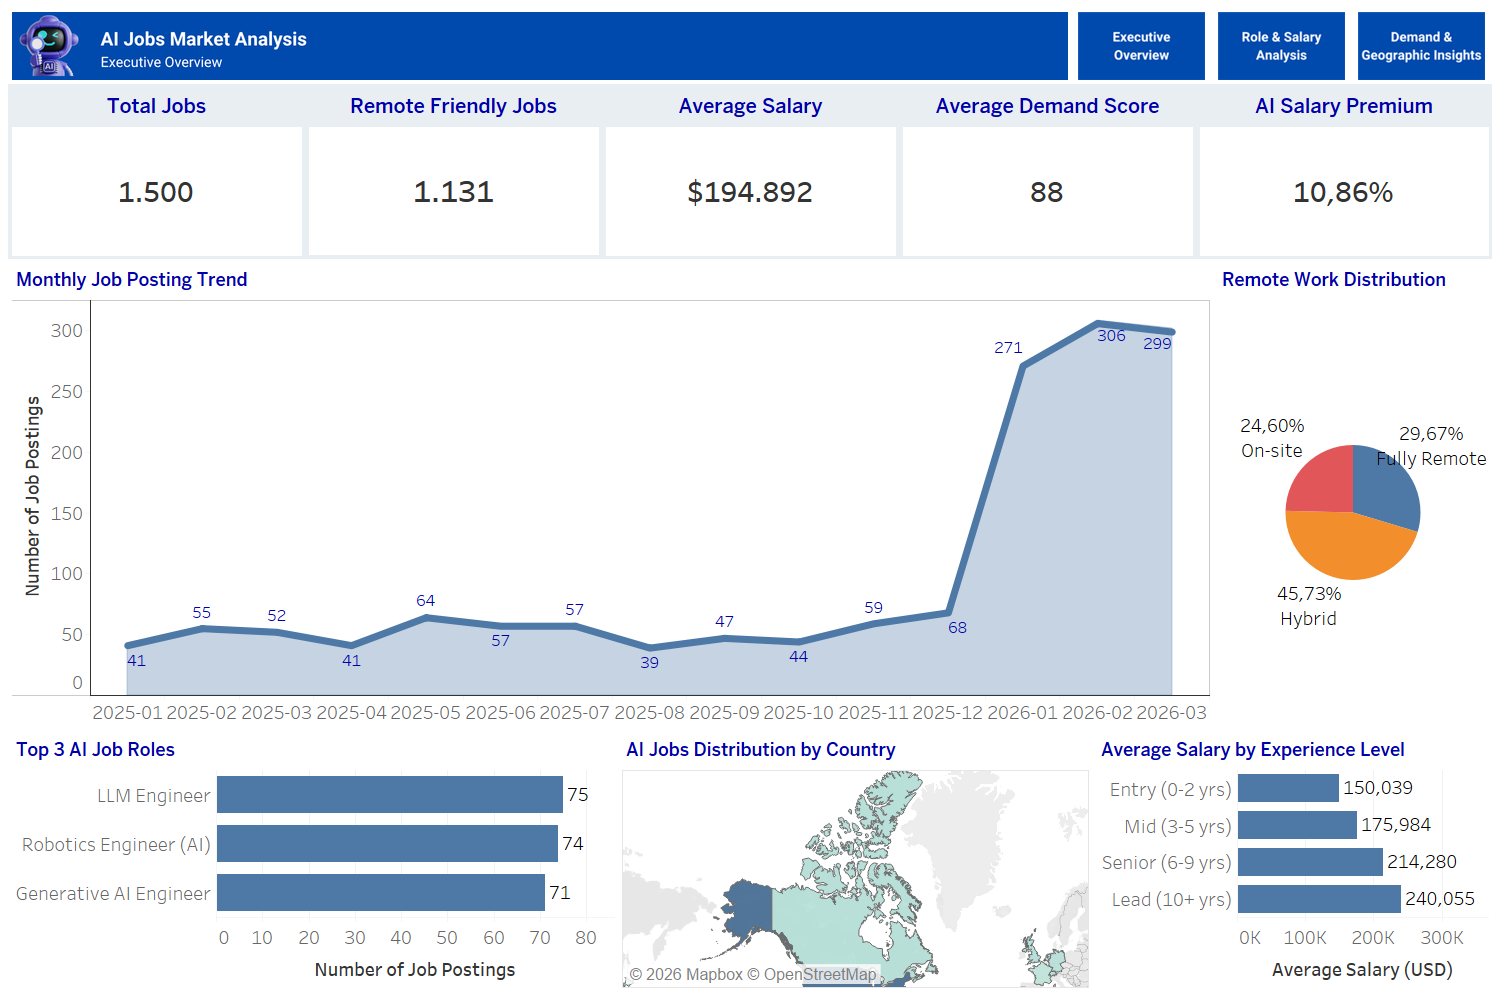

What the dashboard file says about the page in this screenshot:
{"tool":"tableau","page":{"name":"Dashboard - Executive Overview","canvas":[1500,1000],"ordinal":1},"visuals":[{"type":"image","param":"Image/1.png","box":[8,8,1064,76]},{"type":"dashboard-object","box":[1072,8,140,76]},{"type":"dashboard-object","box":[1212,8,140,76]},{"type":"dashboard-object","box":[1352,8,140,76]},{"type":"worksheet","title":"KPI - Total Jobs","mark":"Automatic","box":[8,84,297,175]},{"type":"worksheet","title":"KPI - Remote Friendly Jobs","mark":"Automatic","box":[305,84,297,175]},{"type":"worksheet","title":"KPI - Average Salary","mark":"Automatic","box":[602,84,297,175]},{"type":"worksheet","title":"KPI - Average Demand Score","mark":"Automatic","box":[899,84,297,175]},{"type":"worksheet","title":"KPI AI Salary Premium","mark":"Automatic","box":[1196,84,296,175]},{"type":"worksheet","title":"Trend - Monthly Job Postings","mark":"Area","rows":["job_id","job_id"],"cols":["Calculation_867505894209253376"],"box":[8,259,1206,470]},{"type":"worksheet","title":"Work - Remote Work Distribution","mark":"Pie","box":[1214,259,278,470]},{"type":"worksheet","title":"Role - Top 3 AI Roles","mark":"Automatic","rows":["job_title"],"cols":["job_id"],"box":[8,729,609.7,263]},{"type":"worksheet","title":"Geo - AI Jobs Map","mark":"Multipolygon","box":[617.7,729,475.3,263]},{"type":"worksheet","title":"Salary - Experience Level Impact","mark":"Automatic","rows":["experience_level"],"cols":["annual_salary_usd"],"box":[1093,729,399,263]}]}

Visuals, with their boxes in screenshot pixels (x1, y1, x2, y2), scaled from the page's 1500x1000 canvas onto the 1500x1000 screenshot:
image: box=[8, 8, 1072, 84]
dashboard-object: box=[1072, 8, 1212, 84]
dashboard-object: box=[1212, 8, 1352, 84]
dashboard-object: box=[1352, 8, 1492, 84]
"KPI - Total Jobs" worksheet: box=[8, 84, 305, 259]
"KPI - Remote Friendly Jobs" worksheet: box=[305, 84, 602, 259]
"KPI - Average Salary" worksheet: box=[602, 84, 899, 259]
"KPI - Average Demand Score" worksheet: box=[899, 84, 1196, 259]
"KPI AI Salary Premium" worksheet: box=[1196, 84, 1492, 259]
"Trend - Monthly Job Postings" worksheet (Area marks): box=[8, 259, 1214, 729]
"Work - Remote Work Distribution" worksheet (Pie marks): box=[1214, 259, 1492, 729]
"Role - Top 3 AI Roles" worksheet: box=[8, 729, 618, 992]
"Geo - AI Jobs Map" worksheet (Multipolygon marks): box=[618, 729, 1093, 992]
"Salary - Experience Level Impact" worksheet: box=[1093, 729, 1492, 992]
